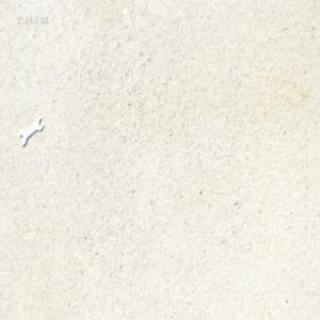Wrenchtrack_idkeyframe: (19, 111, 43, 145)
